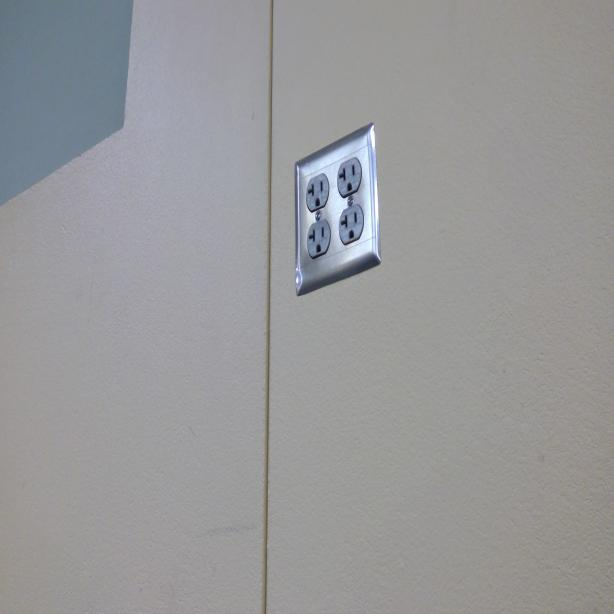typeb: (304, 178, 328, 210), (340, 210, 360, 240), (339, 165, 358, 196), (308, 225, 328, 254)
